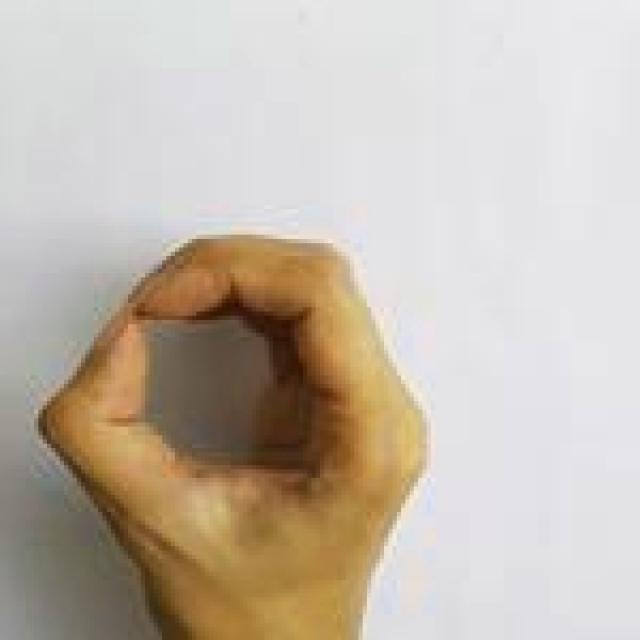O: (32, 227, 434, 640)
